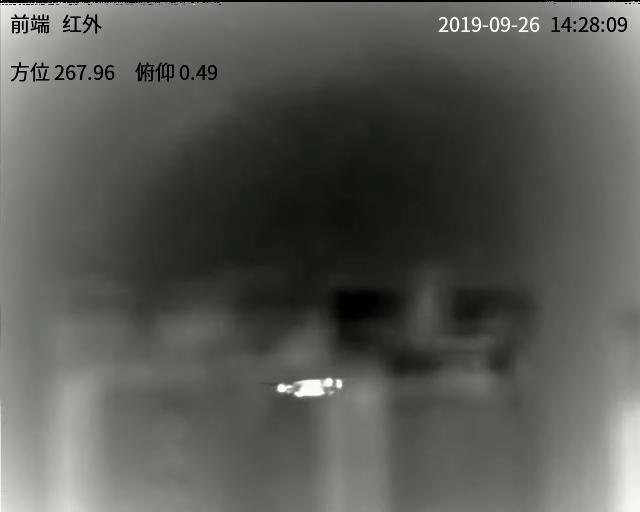uav: (269, 374, 351, 403)
